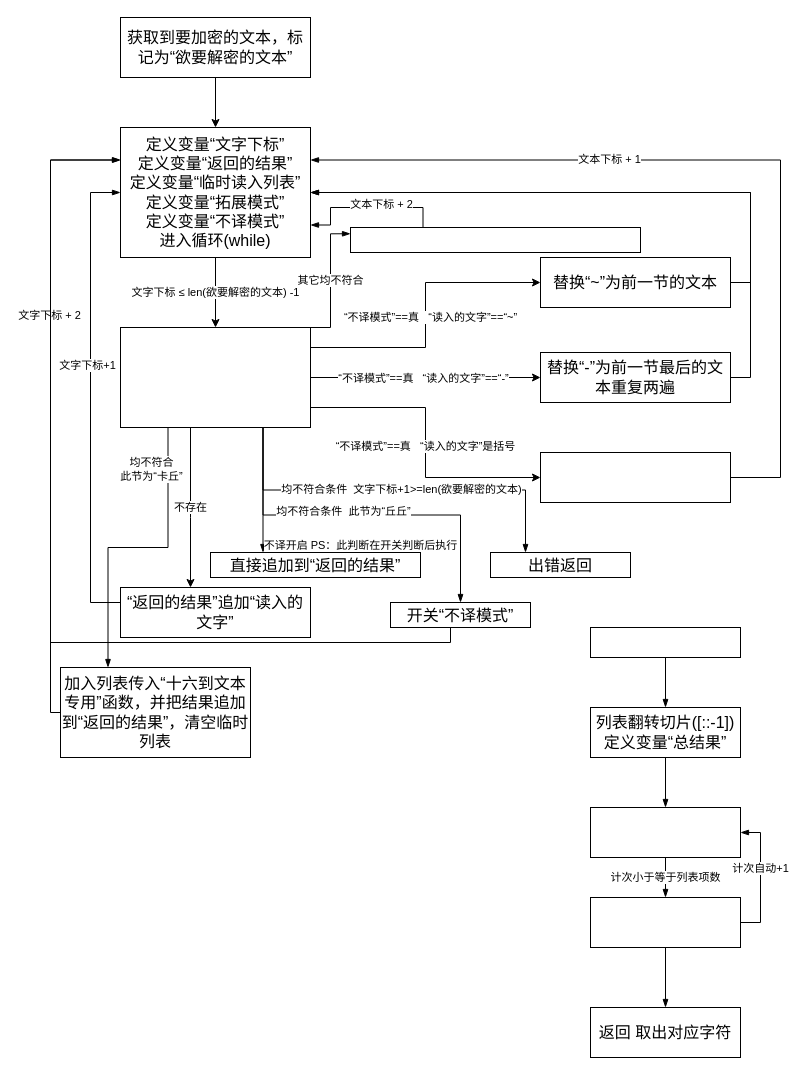
Image size: 806x1075. Some labels were removed from this diagram. The shapes that lost their labels are listed below. From the top down, each one's box as (x1, y1, x2, y2) in pixels, then its label:
(350, 226, 640, 252): 通过字典取出value追加到“临时列表”
(120, 326, 310, 428): 按照文字下标从“欲要解密的文本”中取出文字标记为“读入的文字”，判断读入的文字是否存在于“皮卡丘”“()”"~""-"之中
(540, 452, 730, 502): 开关“拓展模式”
(590, 626, 740, 658): 十六到文本专用函数
(590, 806, 740, 858): 定义变量“计次” 进入循环(for)
(590, 896, 740, 948): 总结果+=16^计次*列表[计次]
